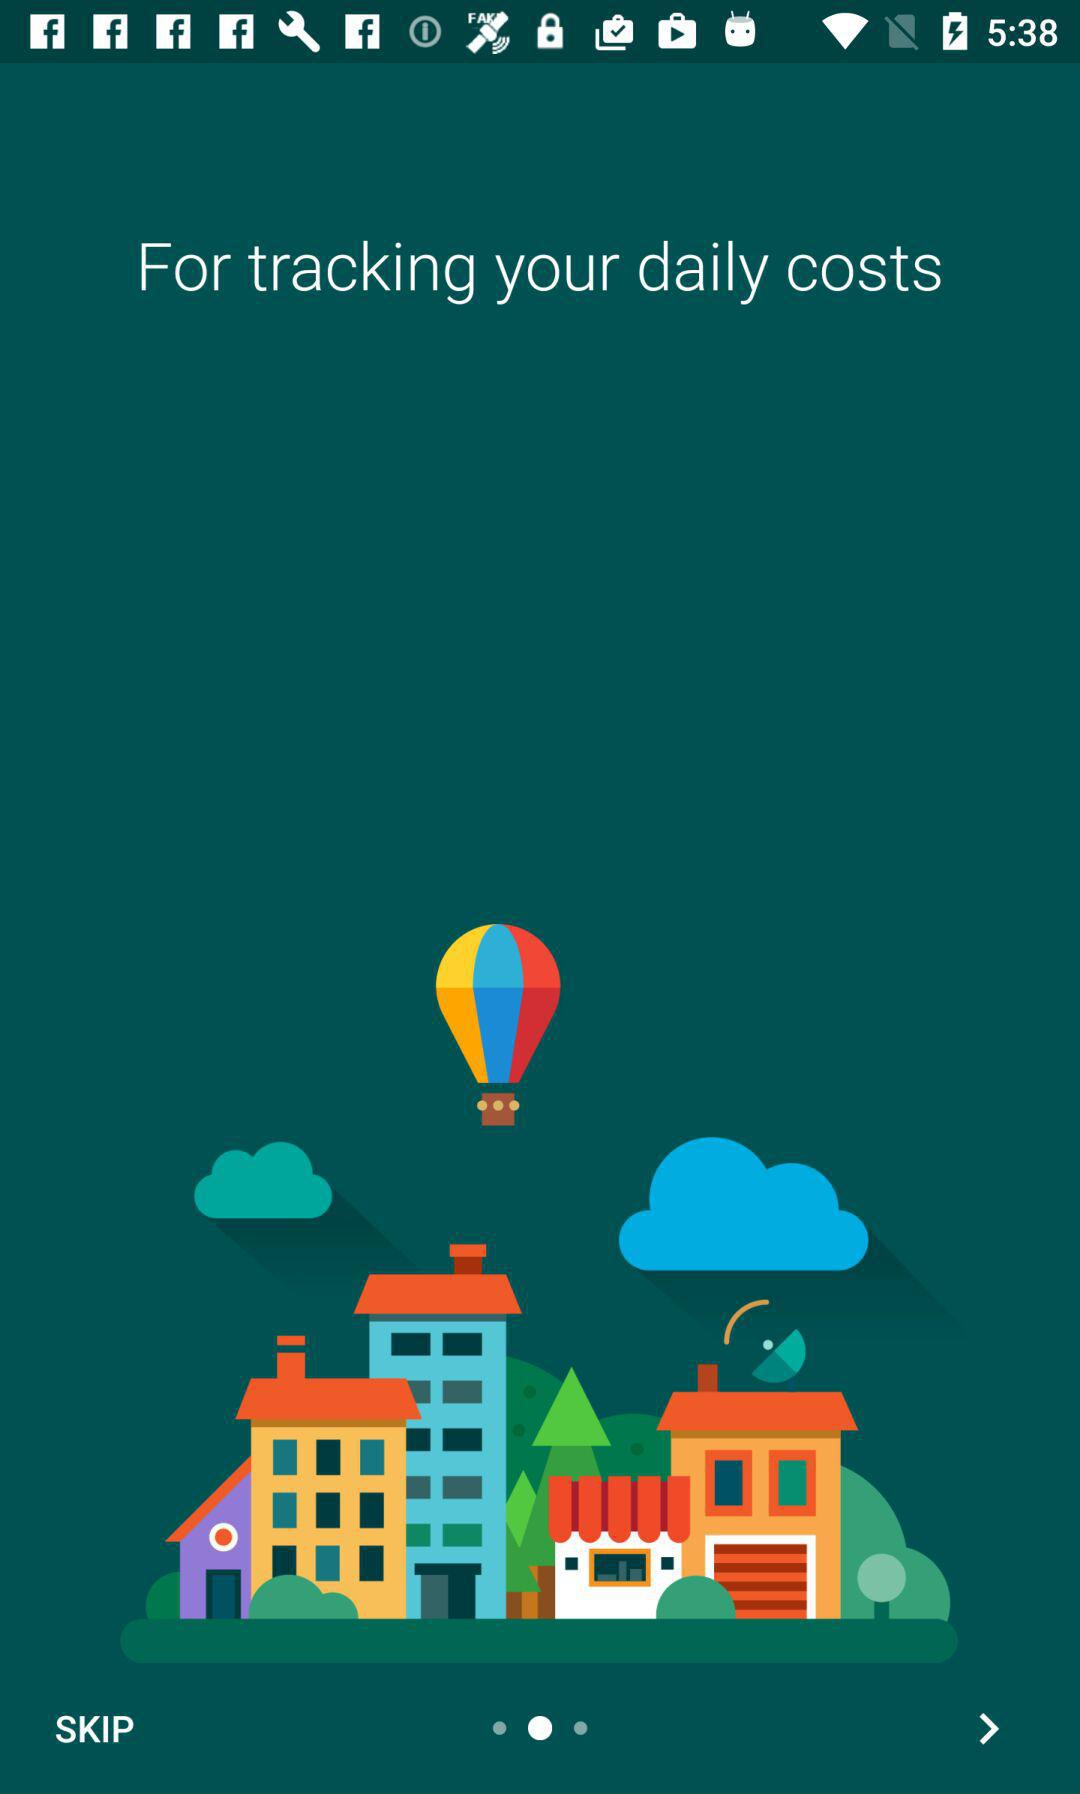Icon: (979, 1712, 1001, 1747)
Image: (119, 923, 956, 1665)
PageIndicator: (491, 1715, 591, 1741)
Text: (140, 240, 942, 308), (56, 1715, 135, 1744)
UpperTaskBar: (1, 1, 1080, 64)
